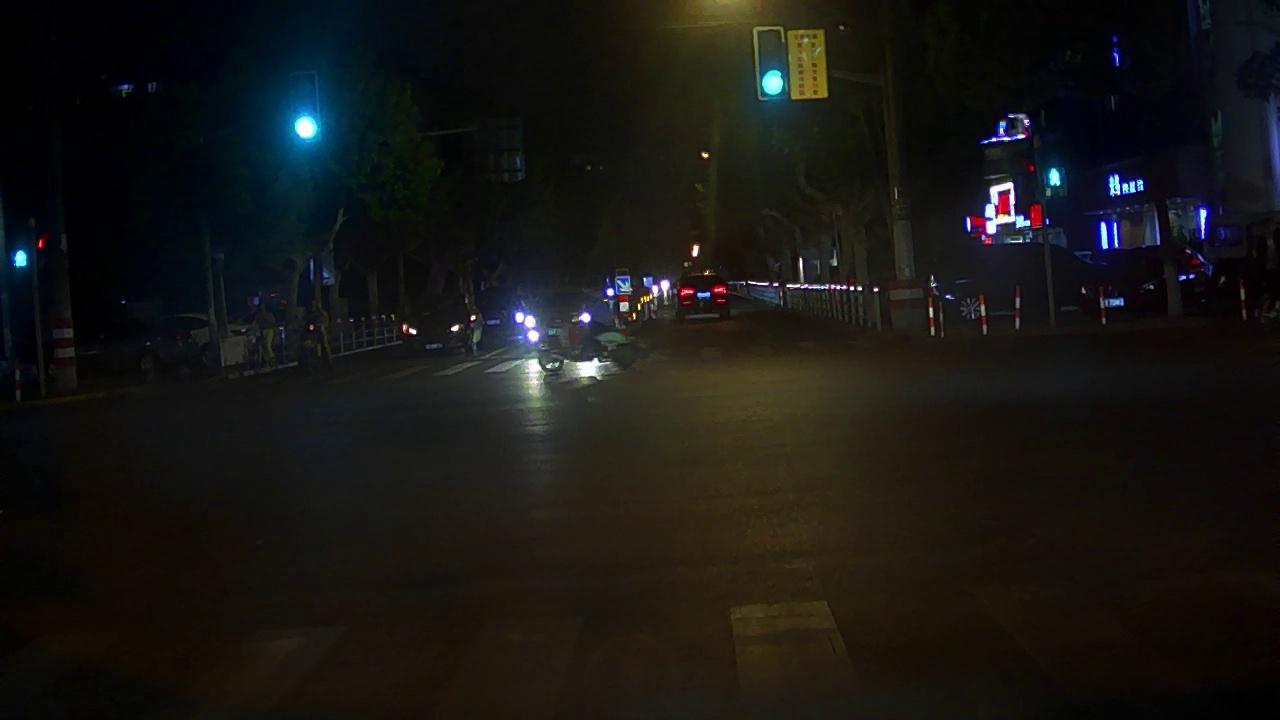traffic_light: (756, 30, 786, 97), (291, 76, 319, 142)
